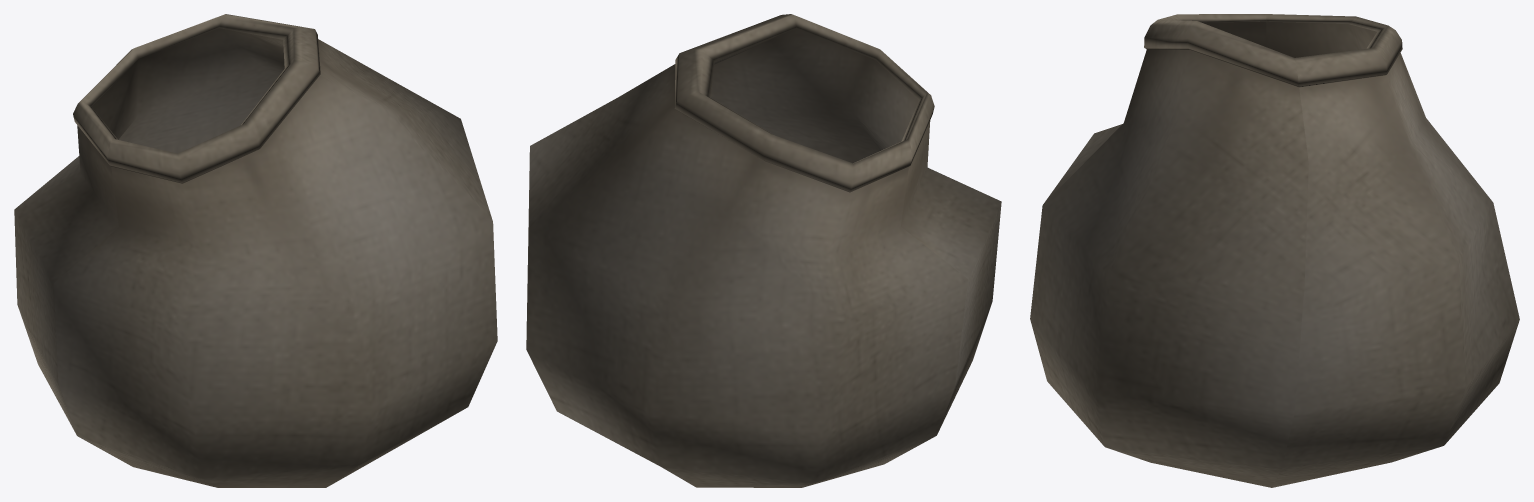
The model's file is sack_007.fbx.
3 renders of one model, left to right at view 1: azimuth 30°, elevation 25°; view 2: azimuth 150°, elevation 25°; view 3: azimuth 270°, elevation 25°, orthographic. The views are drawn at different scales.
Visible parts, largest first — view 1: sack_007; view 2: sack_007; view 3: sack_007.
Part boxes in pixels (bbox=[...]): sack_007: bbox=[14, 14, 497, 487]; sack_007: bbox=[526, 14, 1001, 487]; sack_007: bbox=[1030, 14, 1519, 487].
Size of the model in its own units: 19.52 by 18.13 by 18.61.
